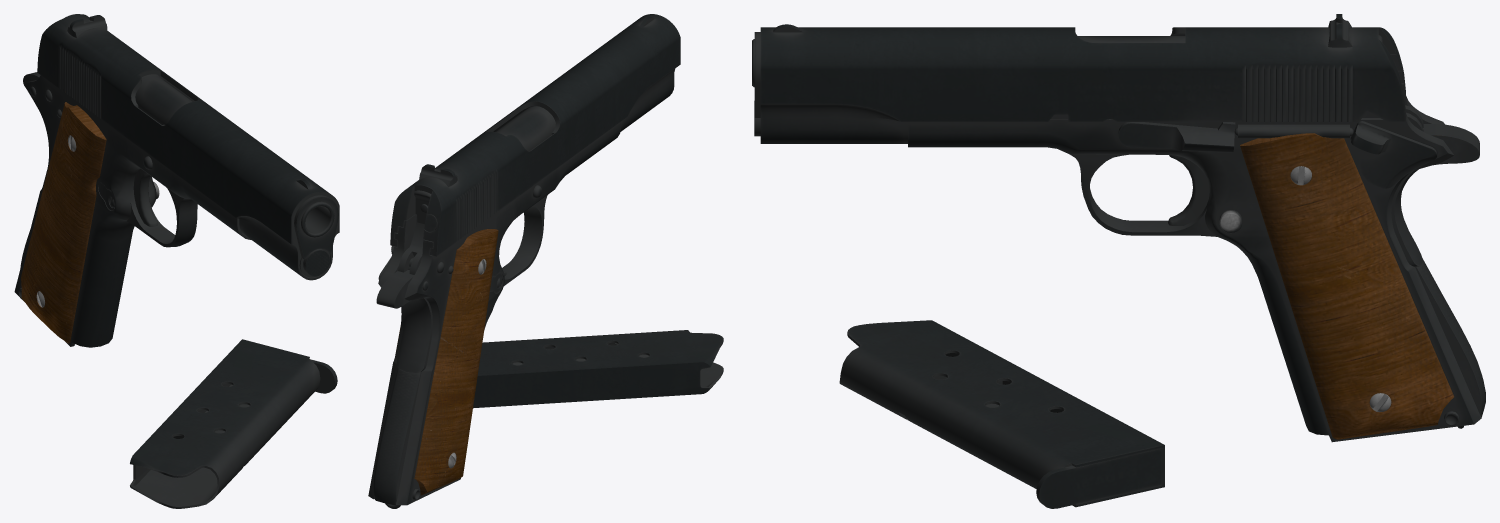
The picture shows the model from 3 angles, left to right: view 1: azimuth 30°, elevation 25°; view 2: azimuth 150°, elevation 25°; view 3: azimuth 270°, elevation 25°; orthographic projection. The views are drawn at different scales.
Parts seen in each view (by area): view 1: m_1911_base, m_1911_bolt_01, m_1911_mag; view 2: m_1911_base, m_1911_bolt_01, m_1911_mag, m_1911_bolt_02; view 3: m_1911_base, m_1911_bolt_01, m_1911_mag.
Boxes of the visible parts, left/top/right/bottom form: m_1911_base: left=14, top=72, right=334, bottom=347; m_1911_bolt_01: left=37, top=14, right=339, bottom=280; m_1911_mag: left=130, top=339, right=337, bottom=508; m_1911_base: left=368, top=106, right=620, bottom=508; m_1911_bolt_01: left=390, top=14, right=680, bottom=256; m_1911_mag: left=473, top=330, right=723, bottom=408; m_1911_bolt_02: left=398, top=190, right=431, bottom=274; m_1911_base: left=752, top=36, right=1485, bottom=442; m_1911_bolt_01: left=754, top=14, right=1405, bottom=143; m_1911_mag: left=839, top=320, right=1164, bottom=508.
Bounding box in the file's own units: 25.3 × 31.09 × 50.15.
Materials: 1 (1 with a texture image).
